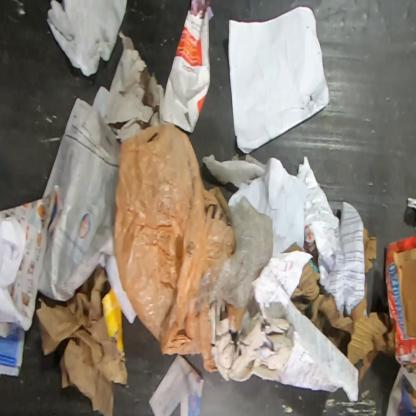cardboard: (290, 262, 353, 357), (346, 280, 397, 382), (384, 233, 416, 368), (364, 226, 378, 274), (279, 242, 305, 253)
soft_plastic: (113, 123, 237, 374), (188, 195, 274, 317), (46, 0, 128, 77), (226, 304, 248, 331)
